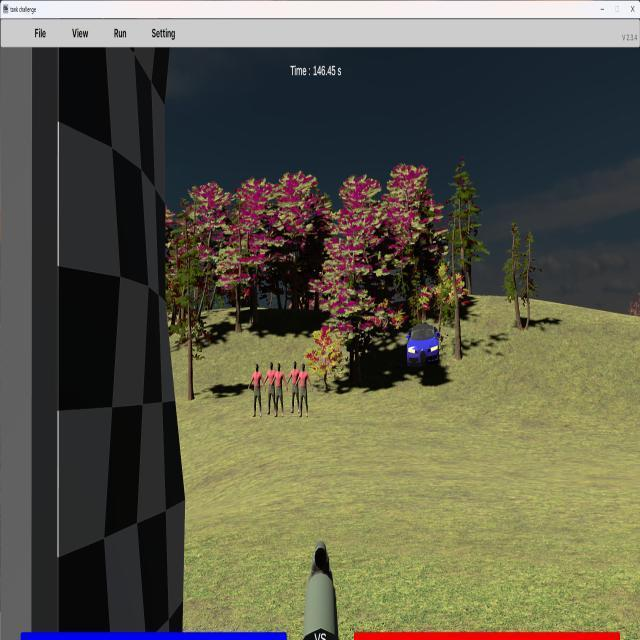Human: (295, 363, 313, 418), (270, 362, 288, 417), (249, 363, 266, 418), (286, 361, 303, 413), (263, 361, 279, 413)
car: (406, 323, 440, 365)
